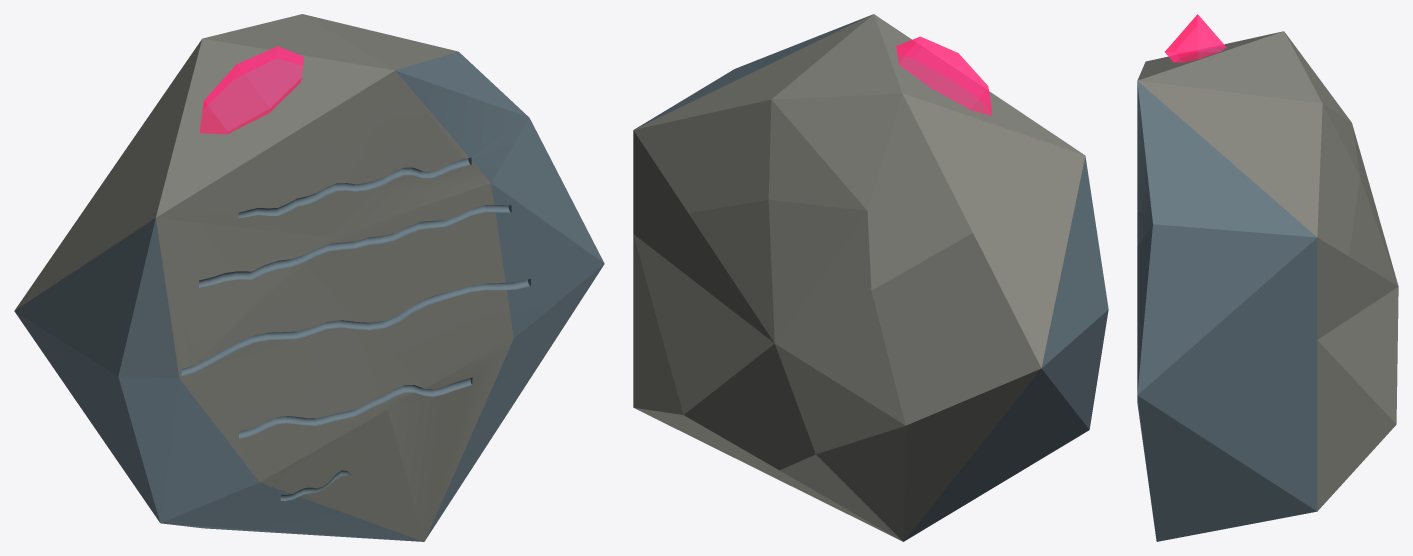
File: Artefact4.fbx
3 views of the same model, side by side, from view 1: azimuth 30°, elevation 25°; view 2: azimuth 150°, elevation 25°; view 3: azimuth 270°, elevation 25° (orthographic). The views are drawn at different scales.
Parts seen in each view (by area): view 1: pPlatonic2, pSphere1; view 2: pPlatonic2, pSphere1; view 3: pPlatonic2, pSphere1.
Boxes of the visible parts, <box> form: pPlatonic2: <box>14,14,604,541</box>; pSphere1: <box>199,46,303,134</box>; pPlatonic2: <box>633,14,1108,541</box>; pSphere1: <box>896,36,992,115</box>; pPlatonic2: <box>1137,31,1398,541</box>; pSphere1: <box>1165,14,1226,62</box>.
Bounding box in the file's own units: 9.38 × 9.3 × 4.76.
